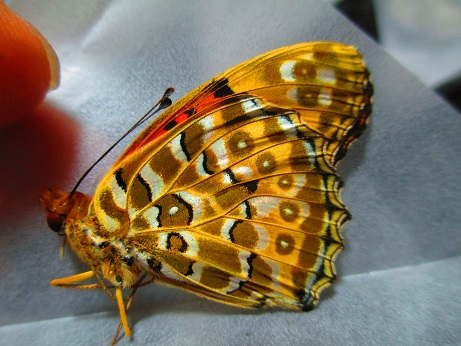Argyreus hyperbius: (38, 31, 377, 344)
butterfly: (40, 33, 379, 346)
